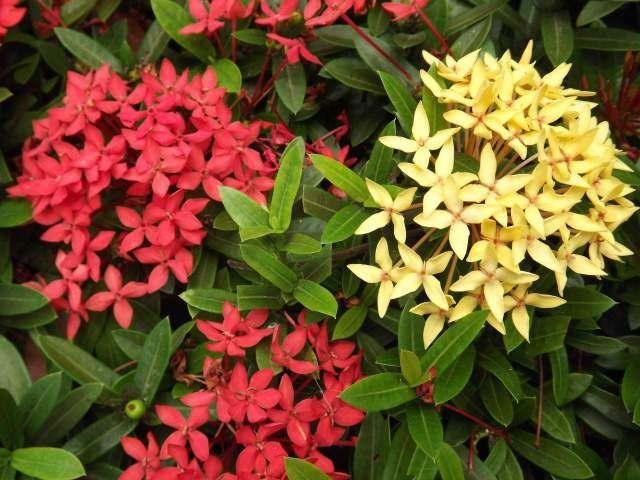ixora: (456, 245, 533, 312), (377, 100, 454, 162), (424, 183, 489, 256), (464, 150, 530, 218), (411, 146, 473, 212), (493, 285, 564, 339), (360, 179, 416, 243), (507, 208, 562, 273), (349, 245, 397, 311), (272, 380, 318, 445), (448, 93, 515, 137), (399, 245, 448, 305), (156, 405, 209, 458), (99, 271, 146, 328), (229, 365, 278, 419), (71, 128, 120, 180), (138, 241, 188, 291), (554, 234, 602, 285), (215, 123, 263, 174), (68, 230, 115, 282), (271, 324, 319, 374), (235, 425, 284, 473), (130, 146, 180, 193), (549, 127, 597, 175), (197, 316, 249, 356), (118, 207, 169, 247), (103, 74, 143, 122), (46, 254, 85, 302), (268, 33, 320, 67), (118, 436, 158, 478), (184, 0, 223, 32)
